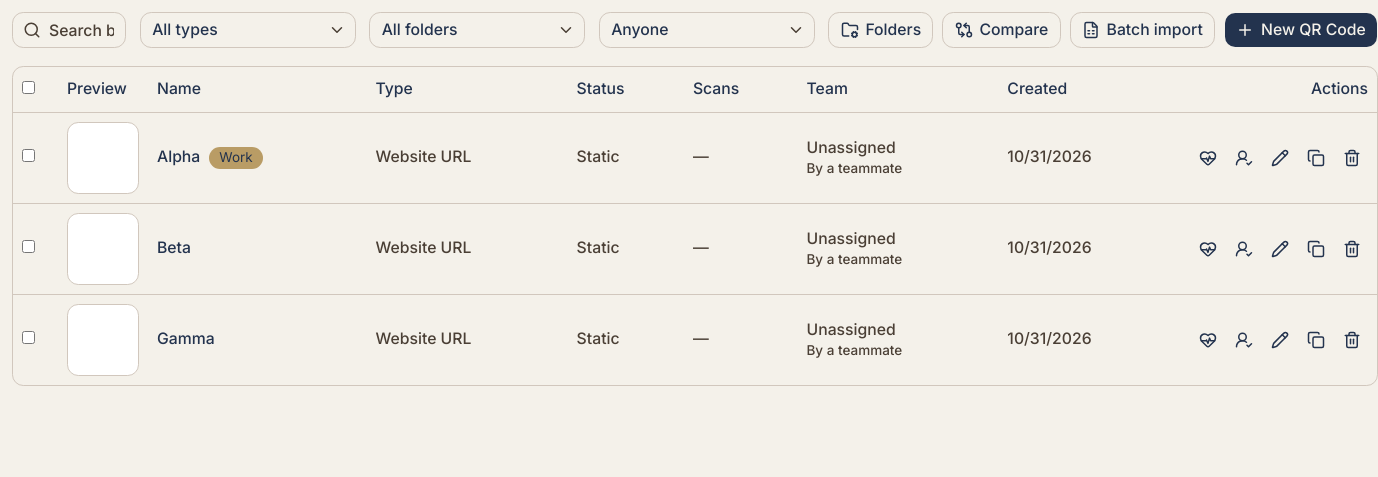
Scenario: QRCodeList folders, selection and duplicate › shows the selection bar only when something is selected
The image size is (1378, 477).
Click the checkbox named "Select Alpha" at (28, 156), box [22,149,35,162]
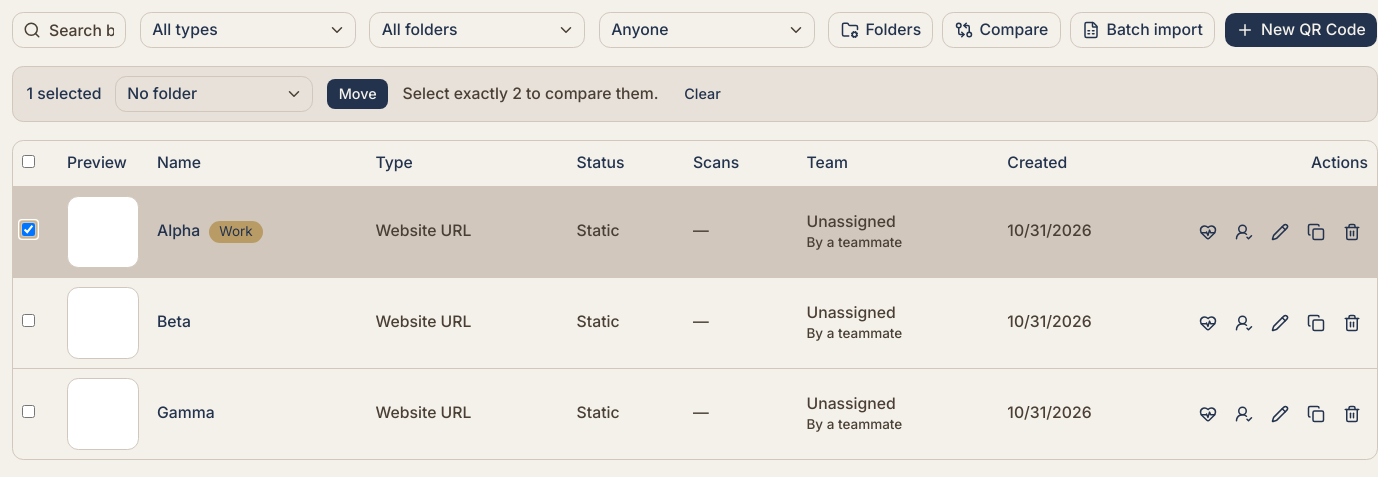
Result: the element named "Selection actions" shows "1 selected" at [12,66,1377,122]
Result: the element named "Selection actions" shows "exactly 2" at [402,84,659,103]
